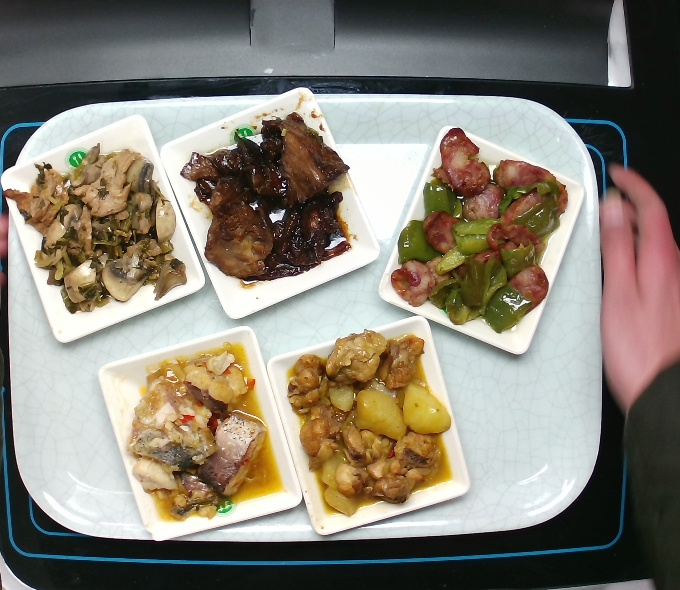wcq-JiangZhiYa: (178, 109, 354, 281)
wcq-MoGuRouPian: (2, 140, 188, 315)
wcq-QingJiaoXiangChang: (389, 127, 571, 334)
wcq-SuanCaiYu: (129, 341, 282, 518)
wcq-TuDouJiKuai: (285, 329, 456, 516)
